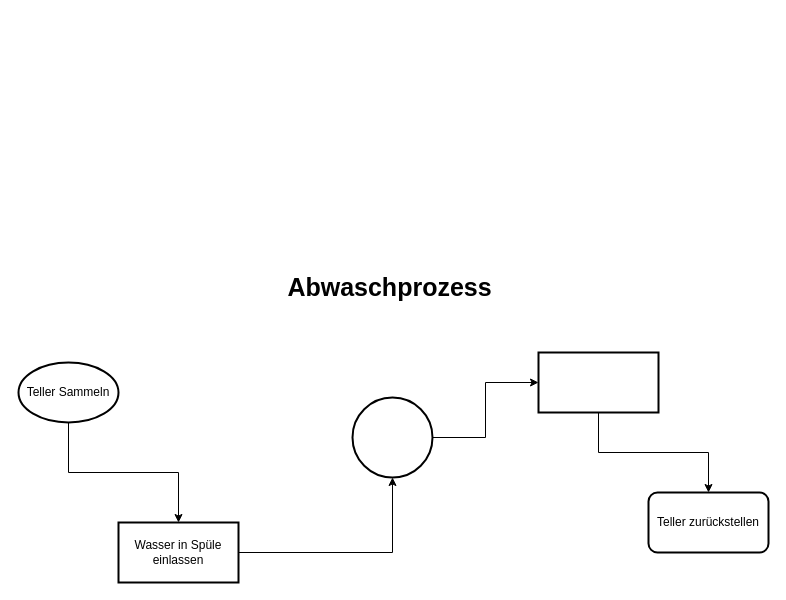
Image size: 786x600. Some labels were removed from this diagram. The shapes that lost their labels are listed below. From the top down, each one's centre as x and y in pixels, then its label:
At point (598, 382): "Teller Abtrocknen".
At point (392, 437): "Teller Spülen".
